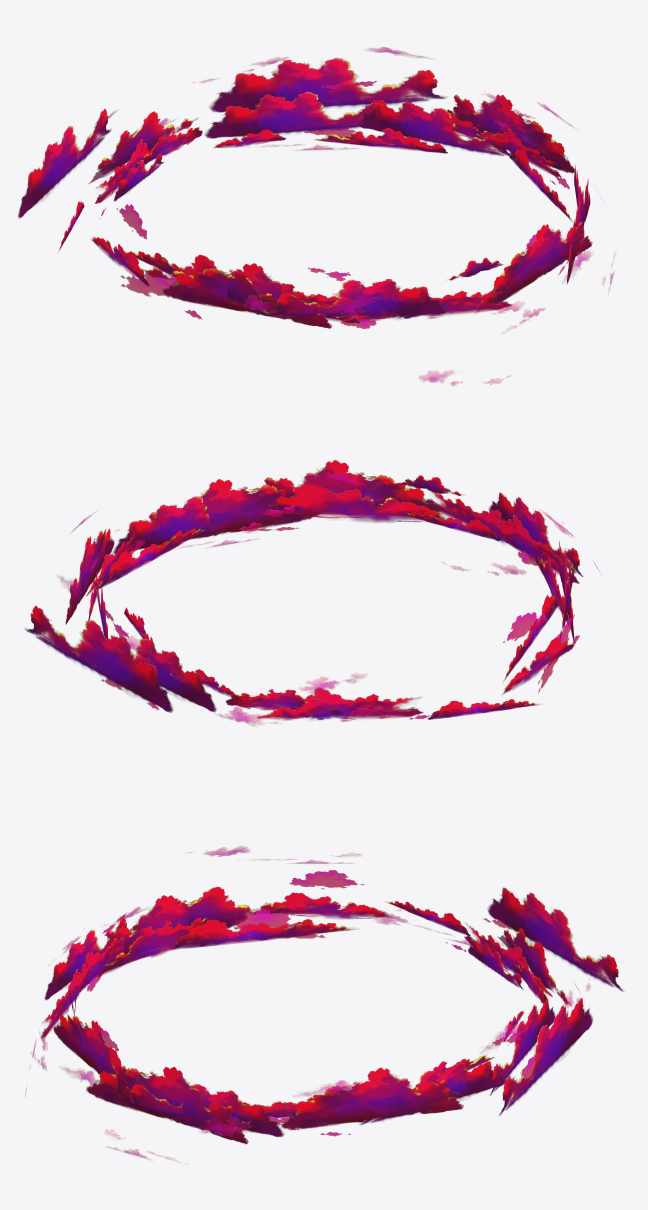
File: sky_cloud_of_azure_lane_island.glb
3 views of the same model, one above another, from view 1: azimuth 30°, elevation 25°; view 2: azimuth 150°, elevation 25°; view 3: azimuth 270°, elevation 25° (orthographic). The views are drawn at different scales.
Parts seen in each view (by area): view 1: CloudMesh_Bottom_0, CloudMesh_Top_2, CloudMesh_Middle_1; view 2: CloudMesh_Bottom_0, CloudMesh_Middle_1, CloudMesh_Top_2; view 3: CloudMesh_Bottom_0, CloudMesh_Top_2, CloudMesh_Middle_1.
Boxes of the visible parts, x1=… form: CloudMesh_Bottom_0: x1=18, y1=58, x2=592, y2=328; CloudMesh_Top_2: x1=94, y1=47, x2=615, y2=385; CloudMesh_Middle_1: x1=99, y1=81, x2=569, y2=328; CloudMesh_Bottom_0: x1=25, y1=460, x2=583, y2=721; CloudMesh_Middle_1: x1=89, y1=474, x2=579, y2=719; CloudMesh_Top_2: x1=59, y1=484, x2=600, y2=726; CloudMesh_Bottom_0: x1=41, y1=887, x2=623, y2=1144; CloudMesh_Top_2: x1=25, y1=846, x2=590, y2=1164; CloudMesh_Middle_1: x1=84, y1=870, x2=536, y2=1136.
Size of the model in its own units: 124 by 38.3 by 129.
Materials: 3 (3 with a texture image).
